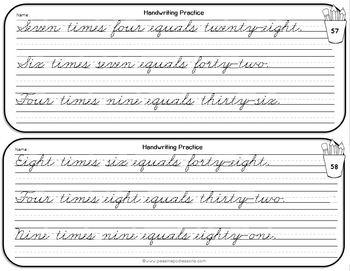text: (16, 19, 303, 39), (14, 190, 287, 211), (15, 54, 270, 76), (13, 227, 279, 248), (14, 153, 271, 174), (14, 92, 282, 112), (141, 143, 204, 152), (143, 9, 204, 18), (141, 258, 207, 264), (329, 162, 340, 170), (15, 12, 29, 18), (330, 27, 339, 35), (14, 147, 28, 152)
